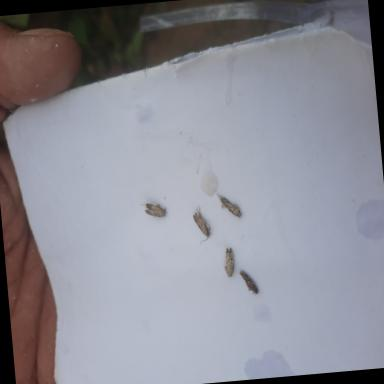pbw: (216, 190, 243, 223), (192, 204, 212, 246), (237, 268, 260, 296), (140, 201, 168, 219), (222, 246, 235, 278)
